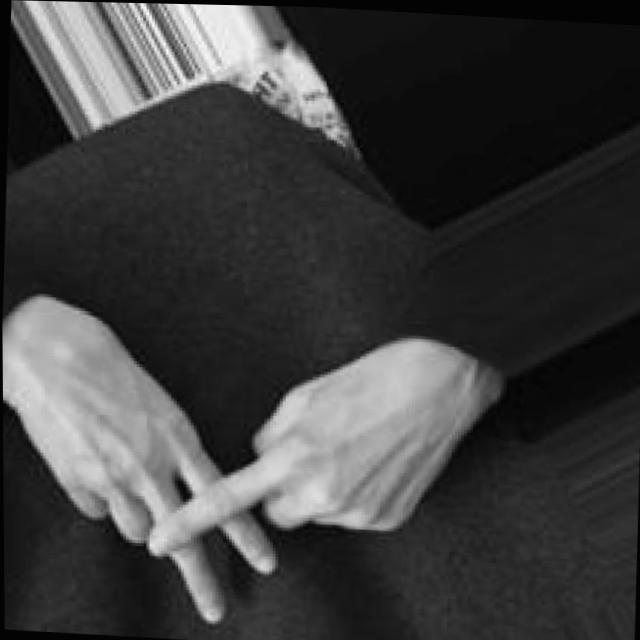A: (2, 310, 418, 638)
